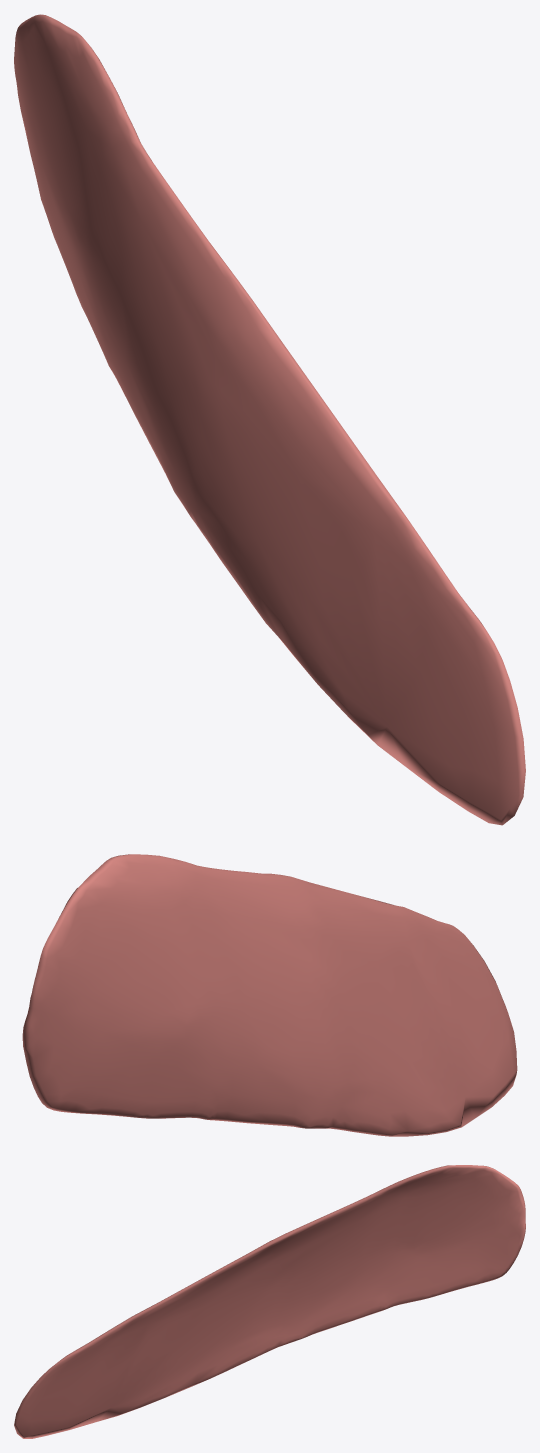
3 renders of one model, top to bottom at view 1: azimuth 30°, elevation 25°; view 2: azimuth 150°, elevation 25°; view 3: azimuth 270°, elevation 25°, orthographic. The views are drawn at different scales.
Parts seen in each view (by area): view 1: ZA_67578c7643b1144e; view 2: ZA_67578c7643b1144e; view 3: ZA_67578c7643b1144e.
Part boxes in pixels (box(x1,y1,x2,y2)): ZA_67578c7643b1144e: box(14, 14, 525, 825); ZA_67578c7643b1144e: box(22, 854, 517, 1136); ZA_67578c7643b1144e: box(14, 1165, 525, 1438).
Bounding box in the file's own units: 0.00576 × 0.029 × 0.0499.
